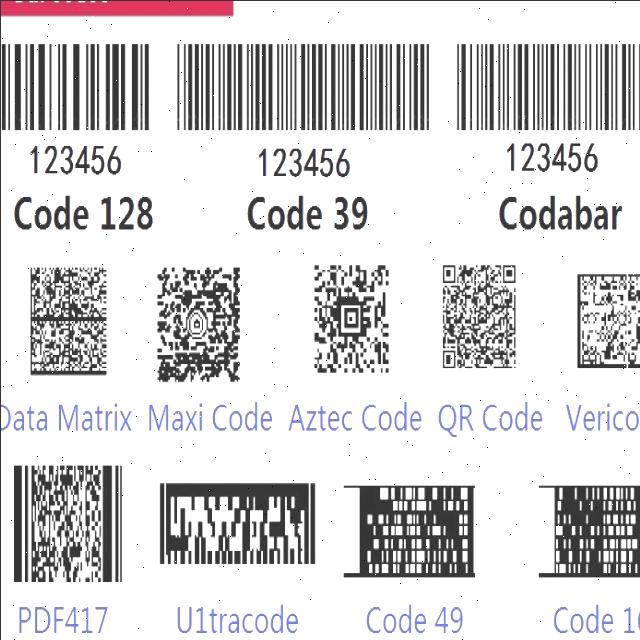datamatrix: (25, 259, 112, 384)
